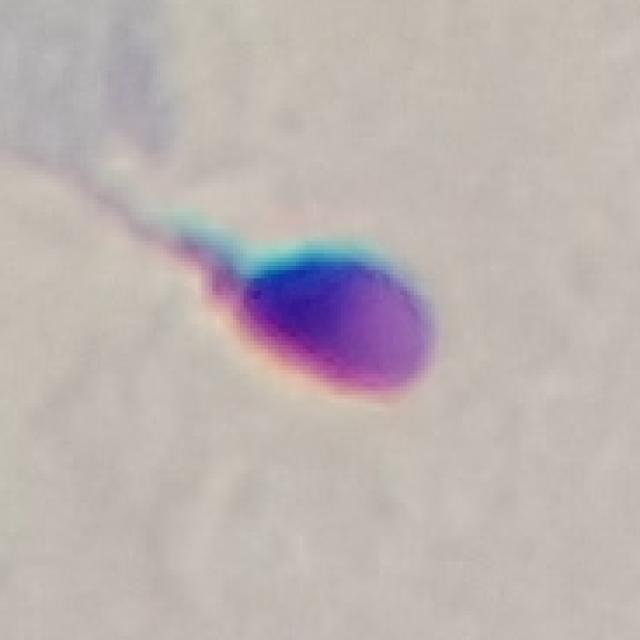normal sperm: (136, 210, 433, 402)
